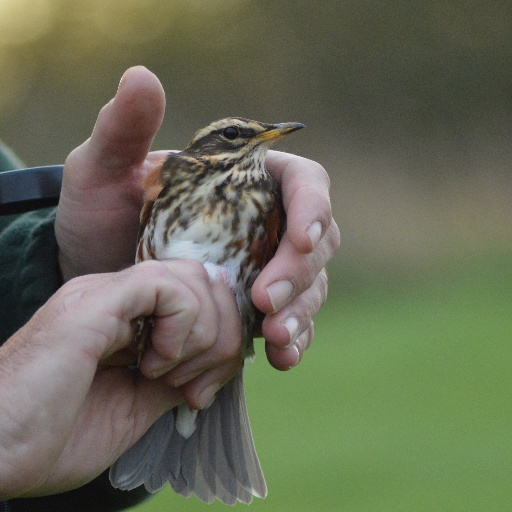hand: (52, 66, 339, 373), (0, 221, 209, 512)
